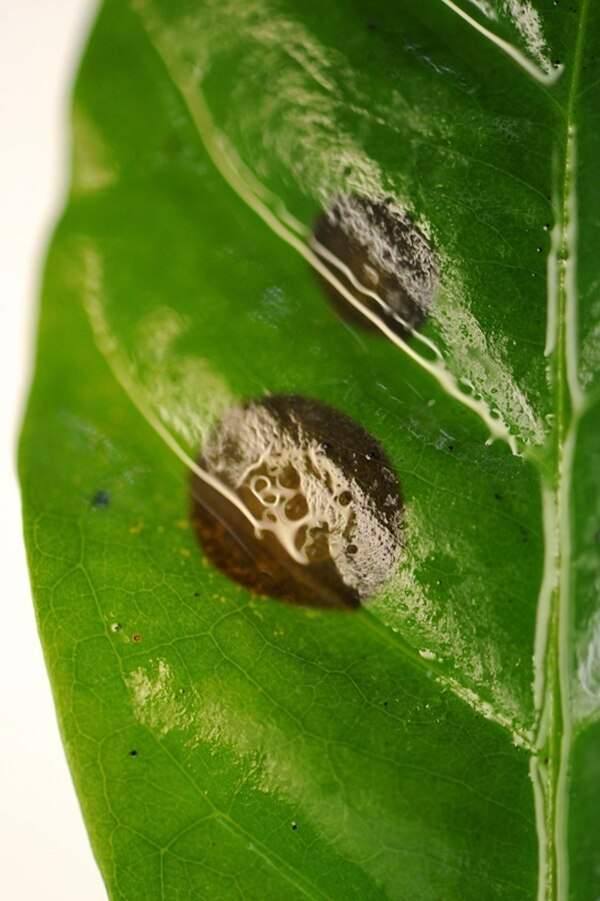ojo de gallo: (193, 76, 499, 728)
